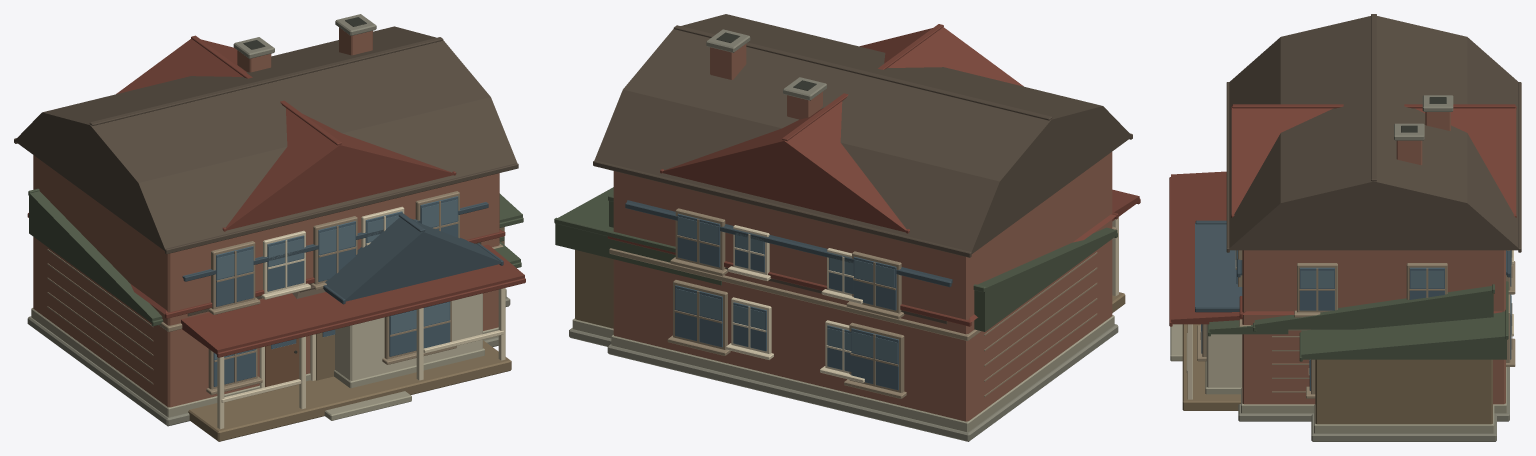
Rendered from pine_hollow_houses.glb.
The picture shows the model from 3 angles, left to right: view 1: azimuth 30°, elevation 25°; view 2: azimuth 150°, elevation 25°; view 3: azimuth 270°, elevation 25°; orthographic projection. The views are drawn at different scales.
Parts seen in each view (by area): view 1: MillHouse, VerandaHouse, TallGable, TwinGable, Bungalow, BlueSaltbox, SideWingHouse; view 2: MillHouse, TallGable, SideWingHouse, Bungalow, VerandaHouse, BlueSaltbox; view 3: MillHouse, SideWingHouse, TallGable, VerandaHouse, Bungalow, TwinGable.
Boxes of the visible parts, x1,y1,x2,y2 form: MillHouse: (14, 14, 518, 426); VerandaHouse: (27, 213, 525, 441); TallGable: (116, 35, 456, 392); TwinGable: (323, 213, 503, 388); Bungalow: (28, 188, 521, 384); BlueSaltbox: (182, 202, 488, 281); SideWingHouse: (499, 193, 523, 306); MillHouse: (593, 14, 1132, 441); TallGable: (660, 24, 1023, 382); SideWingHouse: (554, 187, 721, 346); Bungalow: (608, 195, 1117, 422); VerandaHouse: (607, 189, 1140, 326); BlueSaltbox: (625, 200, 952, 287); MillHouse: (1226, 14, 1521, 421); SideWingHouse: (1299, 281, 1508, 441); TallGable: (1231, 95, 1516, 383); VerandaHouse: (1169, 171, 1502, 410); Bungalow: (1208, 284, 1494, 413); TwinGable: (1195, 220, 1242, 394).
Size of the model in its own units: 10.13 by 6.69 by 8.08.
